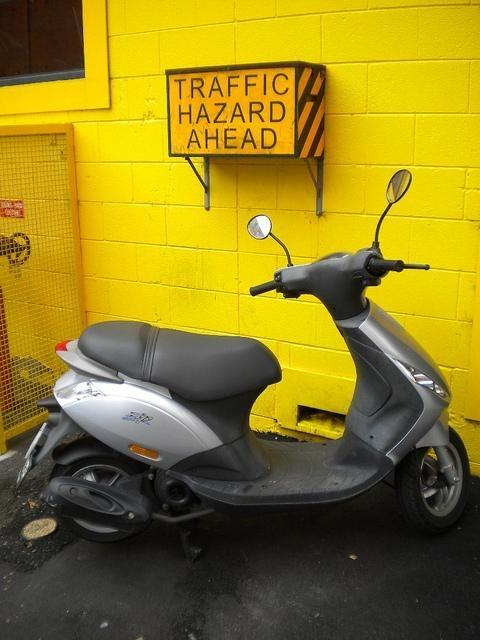motorcycle: (15, 169, 471, 543)
